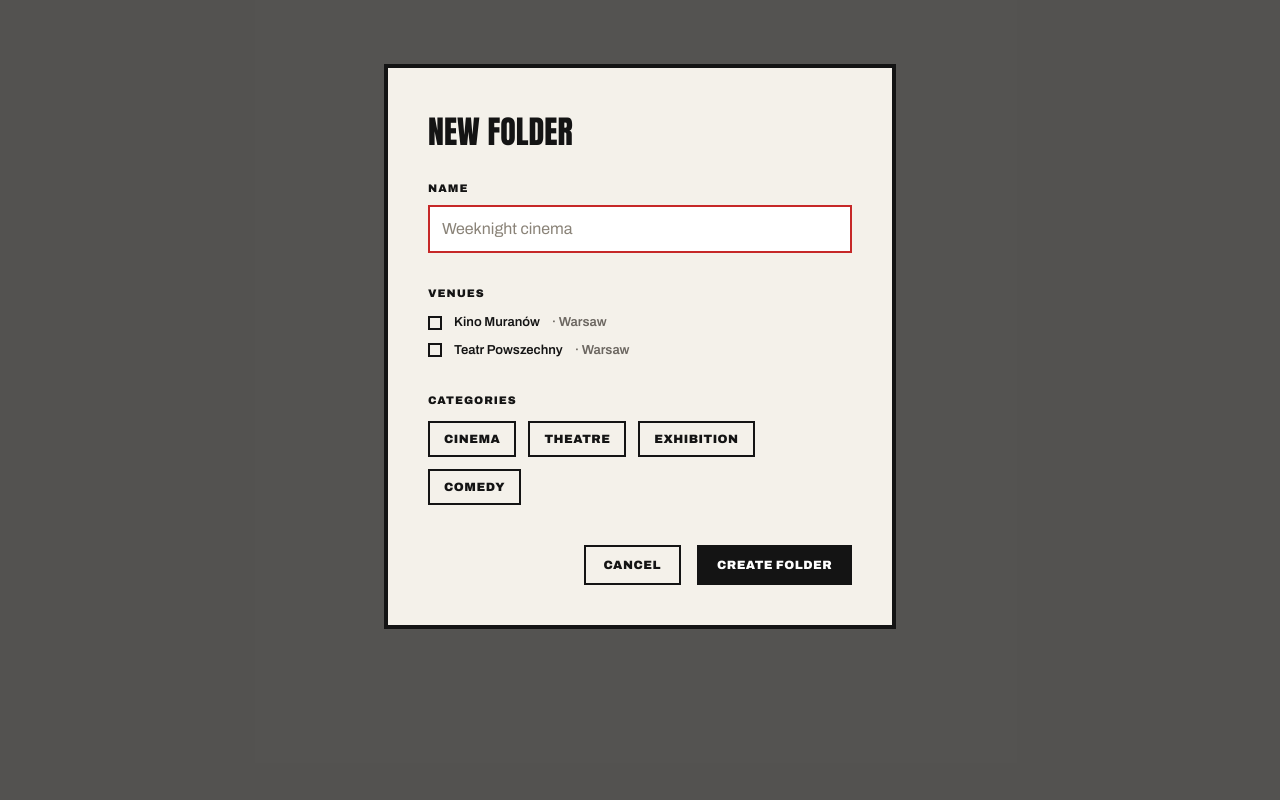
Test case: NewFolderModal › blocks submission with an empty name and shows a validation message
The width and height of the screenshot is (1280, 800).
Click the button "Create folder": (774,564) [697,544,852,584]
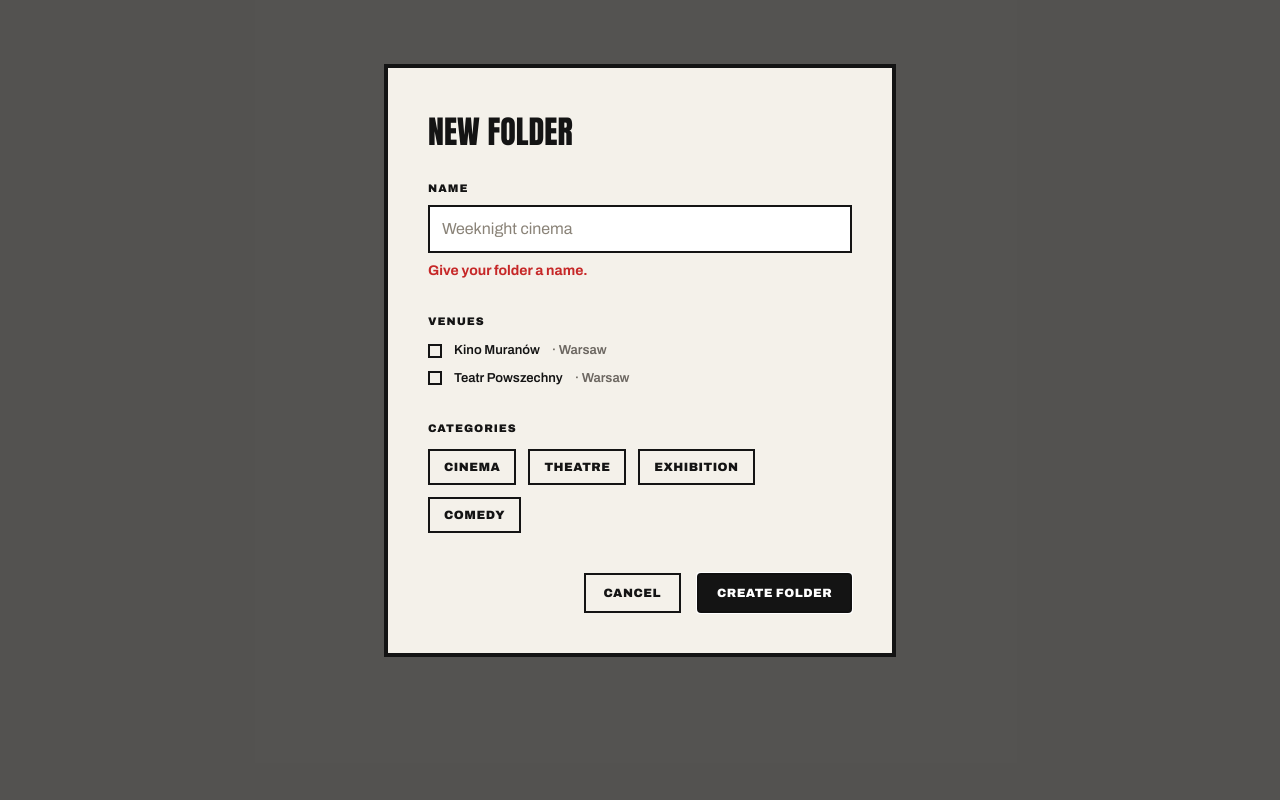
Expected: the message shows "Give your folder a name", [428,262,588,278]
